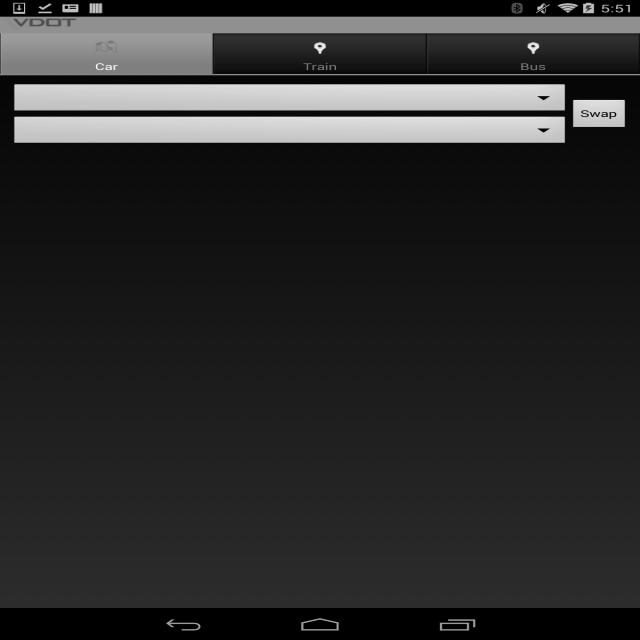Button: (569, 99, 629, 131)
ImageView: (0, 16, 76, 30), (90, 37, 124, 59), (303, 37, 337, 59), (516, 37, 550, 59)
Spinner: (11, 83, 569, 115), (11, 115, 569, 147)
TextView: (303, 60, 337, 73), (520, 60, 546, 73), (95, 60, 118, 73)
